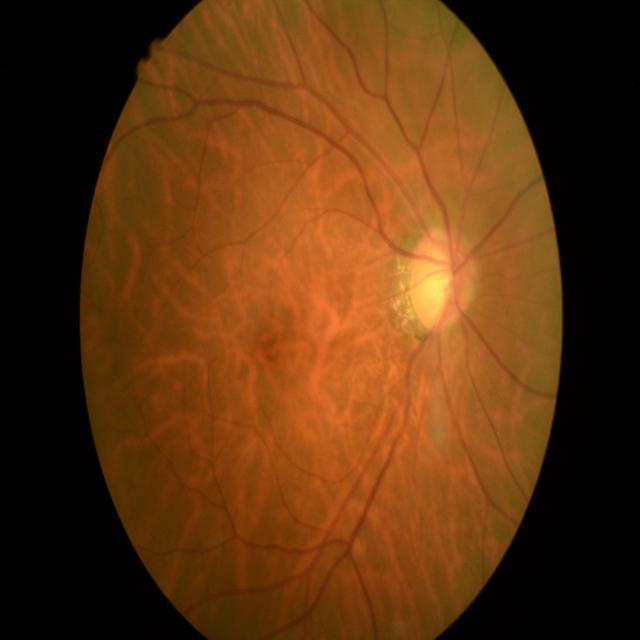cup: (420, 246, 453, 320)
disk: (410, 231, 472, 333)
